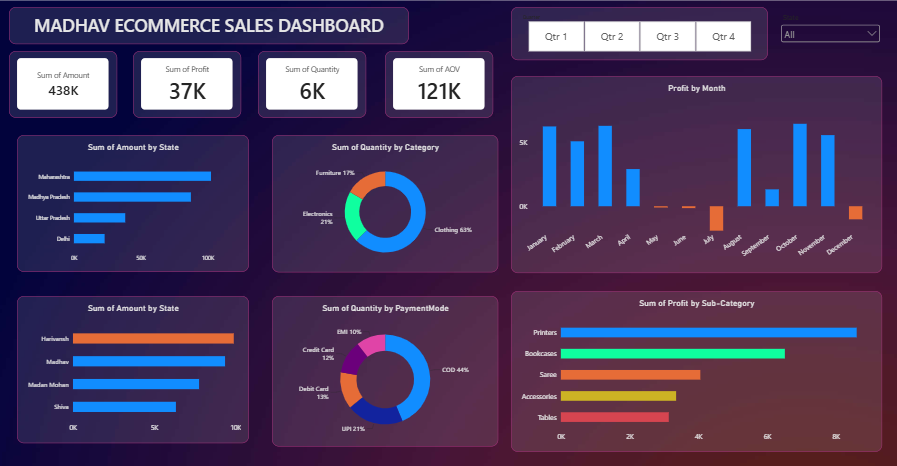

What the dashboard file says about the page in this screenshot:
{"tool":"powerbi","page":{"name":"Page 1","canvas":[1920,1080],"ordinal":0},"visuals":[{"type":"textbox","box":[23.4,48.9,850.4,78.7],"z":0},{"type":"columnChart","title":"Profit by Month","fields":{"Category":["Orders.Order Date.Variation.Date Hierarchy.Month"],"Y":["Sum(Details.Profit)"]},"box":[1090.6,195.6,788.7,418.8],"z":1000},{"type":"barChart","title":"Sum of Profit by Sub-Category","fields":{"Category":["Details.Sub-Category"],"Y":["Sum(Details.Profit)"]},"box":[1090.6,652.7,788.7,342.3],"z":2000},{"type":"donutChart","title":"Sum of Quantity by Category","fields":{"Category":["Details.Category"],"Y":["Sum(Details.Quantity)"]},"box":[582.5,321,481.3,292.3],"z":3000},{"type":"donutChart","title":"Sum of Quantity by PaymentMode","fields":{"Category":["Details.PaymentMode"],"Y":["Sum(Details.Quantity)"]},"box":[582.5,663.3,481.3,320],"z":4000},{"type":"cardVisual","fields":{"Data":["Sum(Details.Amount)"]},"box":[23.4,142.4,229.6,142.4],"z":5000},{"type":"cardVisual","fields":{"Data":["Sum(Details.Profit)"]},"box":[287,142.4,229.6,142.4],"z":6000},{"type":"cardVisual","fields":{"Data":["Sum(Details.Quantity)"]},"box":[552.8,142.4,229.6,142.4],"z":7000},{"type":"cardVisual","fields":{"Data":["Sum(Details.AOV)"]},"box":[822.8,142.4,229.6,142.4],"z":8000},{"type":"barChart","title":"Sum of Amount by State","fields":{"Category":["Orders.State"],"Y":["Sum(Details.Amount)"]},"box":[40.4,321,493.2,291.3],"z":9000},{"type":"barChart","title":"Sum of Amount by State","fields":{"Category":["Orders.CustomerName"],"Y":["Sum(Details.Amount)"]},"box":[40.4,663.3,493.2,312.5],"z":10000},{"type":"slicer","fields":{"Values":["Orders.Order Date.Variation.Date Hierarchy.Quarter"]},"box":[1090.6,48.9,546.4,112.7],"z":11000},{"type":"slicer","fields":{"Values":["Orders.State"]},"box":[1660.4,63.8,219,85],"z":12000}]}

Visuals, with their boxes on the page's 1920x1080 design canvas (x1, y1, x2, y2). These are canvas units, not pixel positions in the 897x466 screenshot, which may show the page scaled, cropped or inside an application window:
textbox: bbox(23, 49, 874, 128)
"Profit by Month" columnChart: bbox(1091, 196, 1879, 614)
"Sum of Profit by Sub-Category" barChart: bbox(1091, 653, 1879, 995)
"Sum of Quantity by Category" donutChart: bbox(582, 321, 1064, 613)
"Sum of Quantity by PaymentMode" donutChart: bbox(582, 663, 1064, 983)
cardVisual - Sum(Details.Amount): bbox(23, 142, 253, 285)
cardVisual - Sum(Details.Profit): bbox(287, 142, 517, 285)
cardVisual - Sum(Details.Quantity): bbox(553, 142, 782, 285)
cardVisual - Sum(Details.AOV): bbox(823, 142, 1052, 285)
"Sum of Amount by State" barChart: bbox(40, 321, 534, 612)
"Sum of Amount by State" barChart: bbox(40, 663, 534, 976)
slicer - Orders.Order Date.Variation.Date Hierarchy.Quarter: bbox(1091, 49, 1637, 162)
slicer - Orders.State: bbox(1660, 64, 1879, 149)
